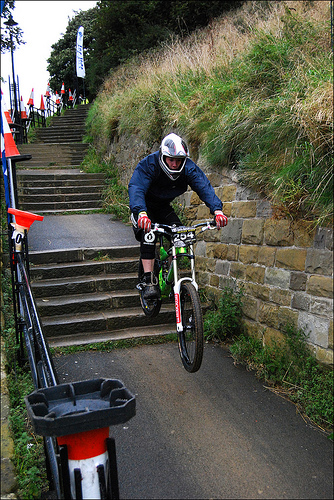helmet: (155, 136, 195, 175)
